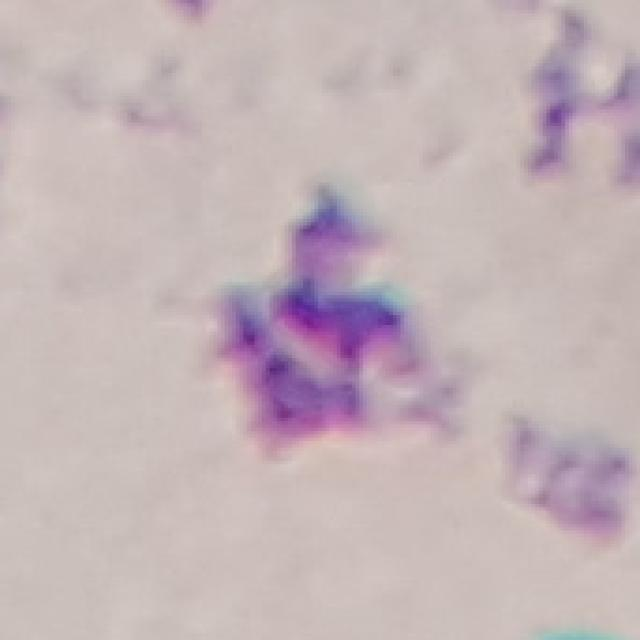non-sperm: (216, 197, 436, 448)
